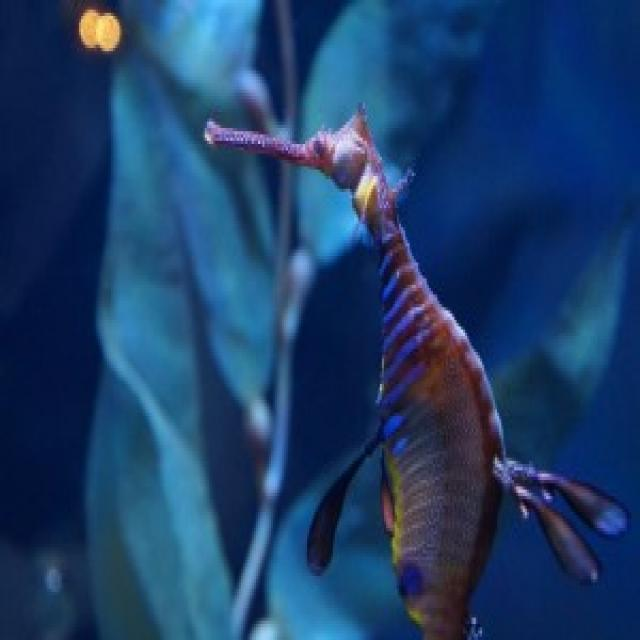Seahorse: (202, 91, 632, 640)
